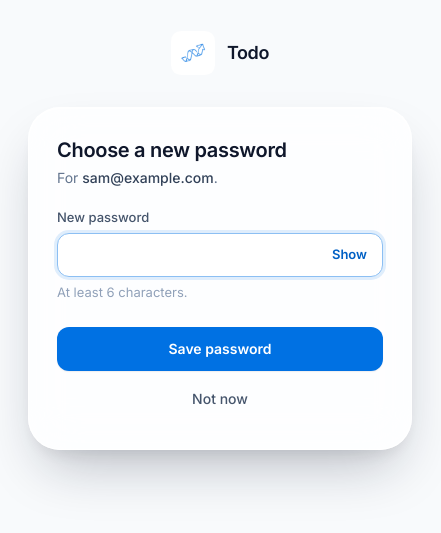
NewPasswordScreen › explains an expired link
Type "a-better-password" into the password field labelled "New password" at (220, 255), box [57, 233, 383, 277]
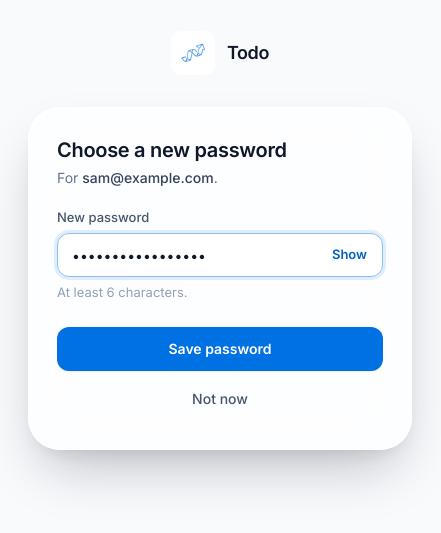
Click the button "Save password" at (220, 348), box [57, 326, 383, 370]
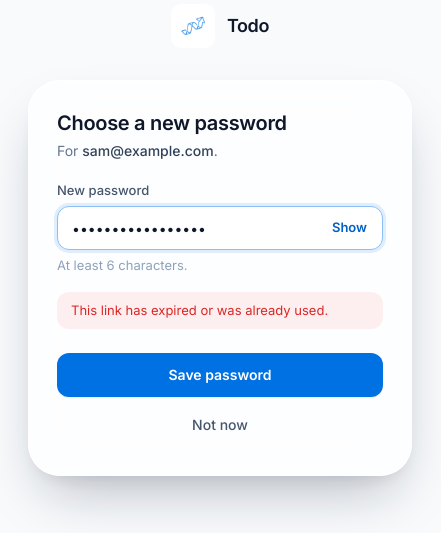
Expected: the message shows "This link has expired", [71, 302, 328, 318]
